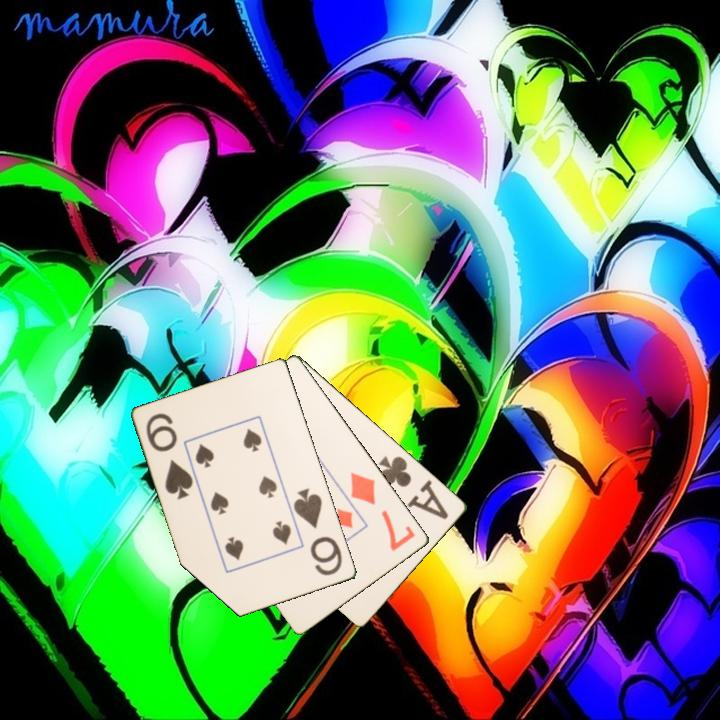6s: (290, 485, 346, 579), (143, 410, 196, 503)
7d: (347, 468, 419, 554)
Ac: (375, 452, 452, 523)
